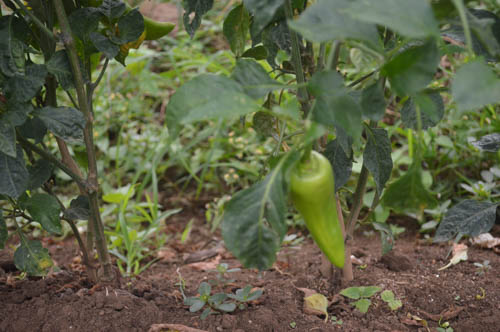ChiliPepper: (287, 153, 347, 268)
